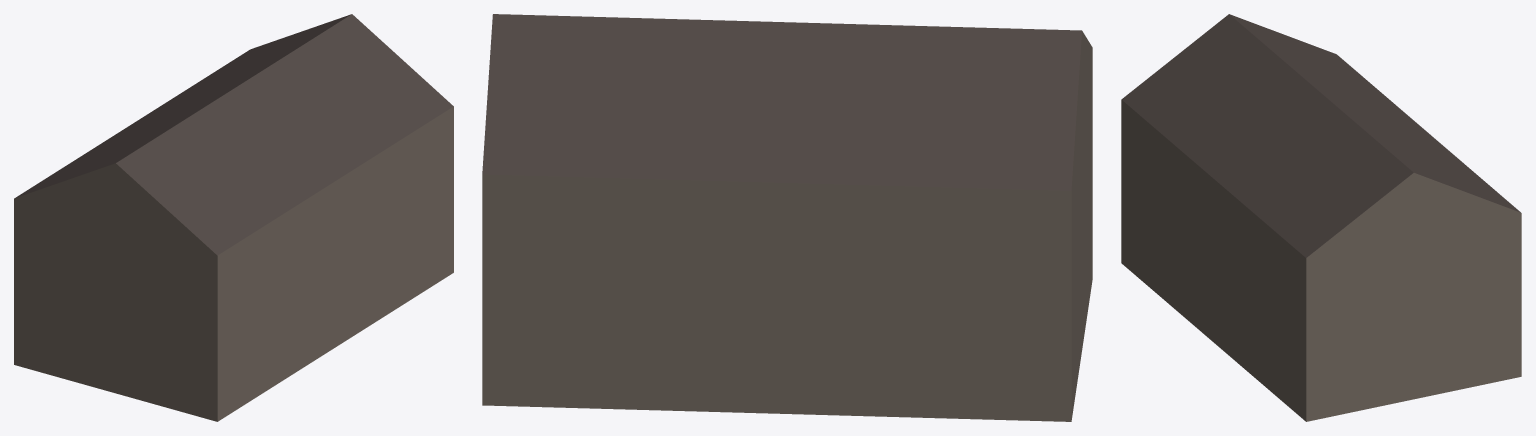
3 views of the same model, side by side, from view 1: azimuth 30°, elevation 25°; view 2: azimuth 150°, elevation 25°; view 3: azimuth 270°, elevation 25° (orthographic). The views are drawn at different scales.
Visible parts, largest first — view 1: HP-w859086201; view 2: HP-w859086201; view 3: HP-w859086201.
Boxes of the visible parts, x1,y1,x2,y2 form: HP-w859086201: (14, 14, 453, 421); HP-w859086201: (482, 14, 1092, 421); HP-w859086201: (1121, 14, 1521, 421).
Size of the model in its own units: 24.02 by 12.46 by 19.92.
